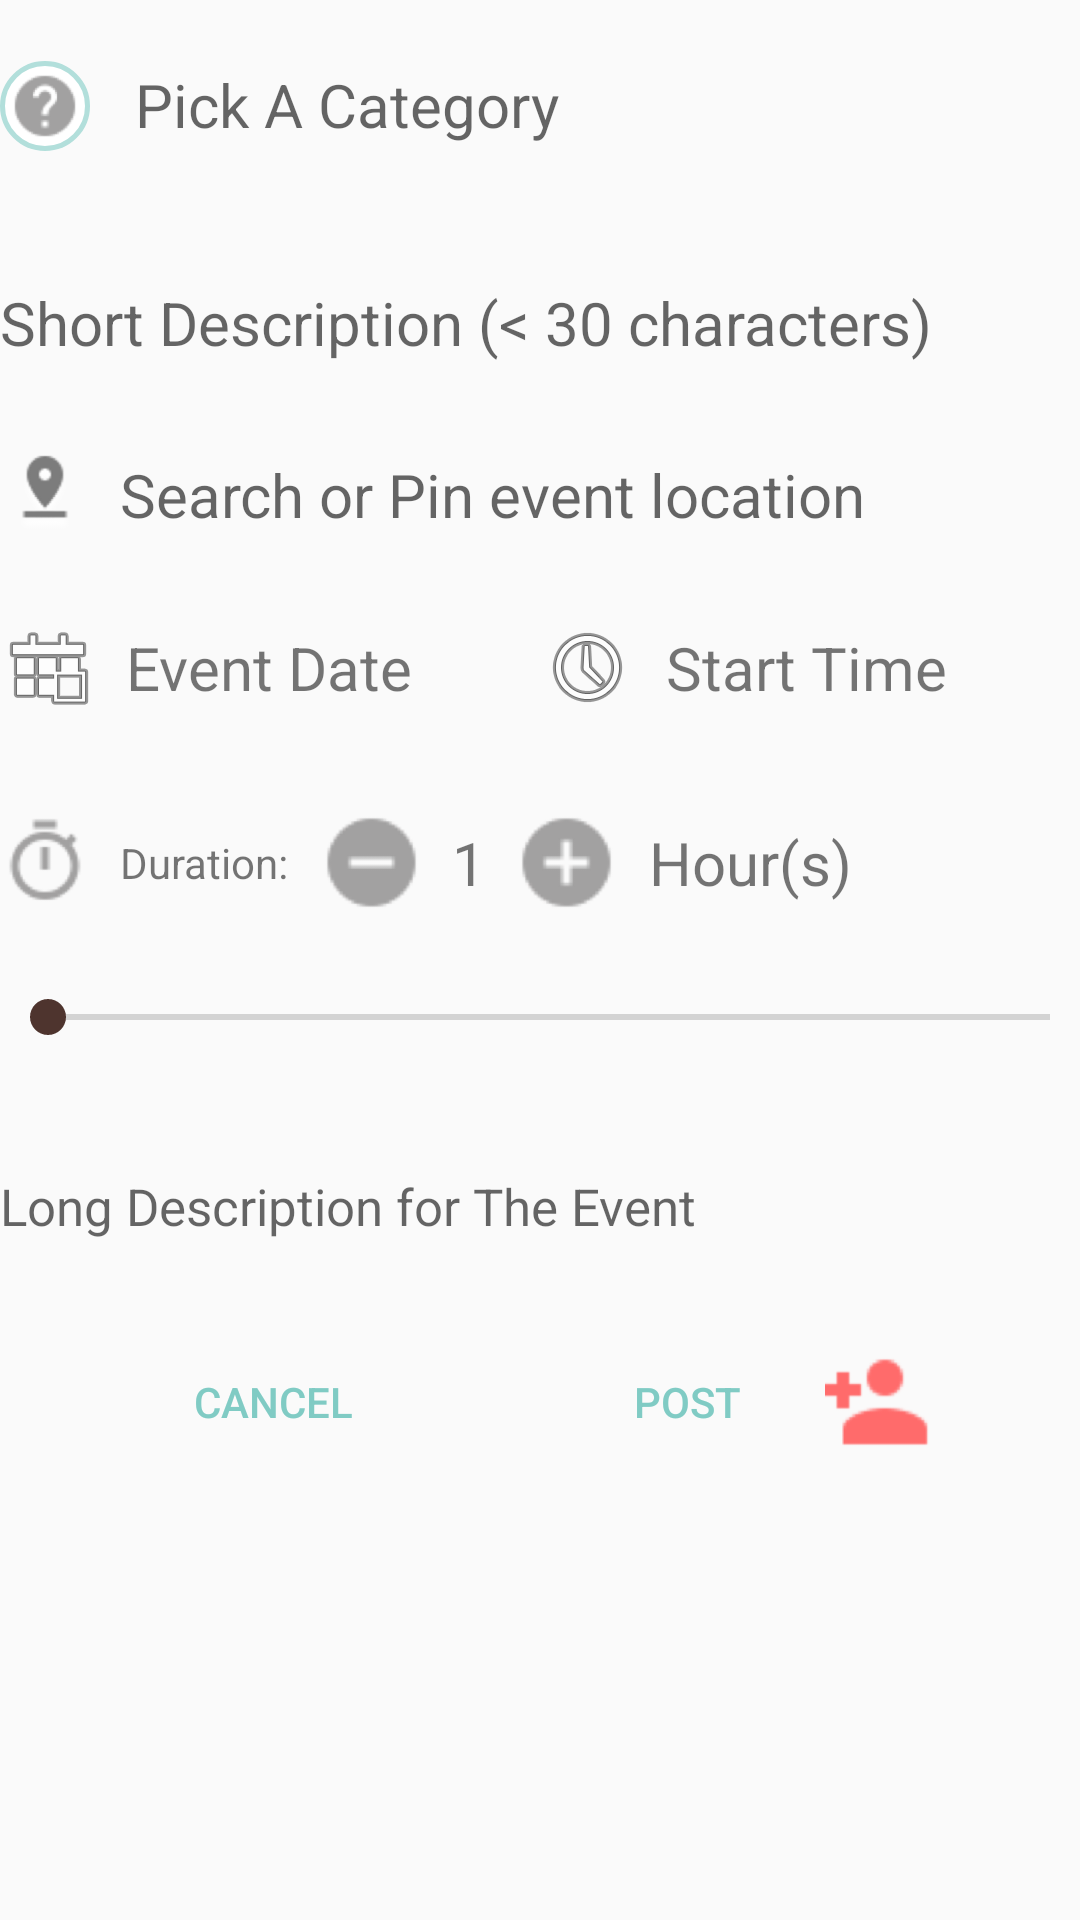

Icon click points for this 1080px x 1920px phone screenshot, format point (x, y):
add: point (566, 862)
minus: point (371, 862)
person add: point (876, 1402)
pin drop: point (45, 487)
recent history: point (587, 667)
today: point (49, 668)
unknown: point (45, 106)
